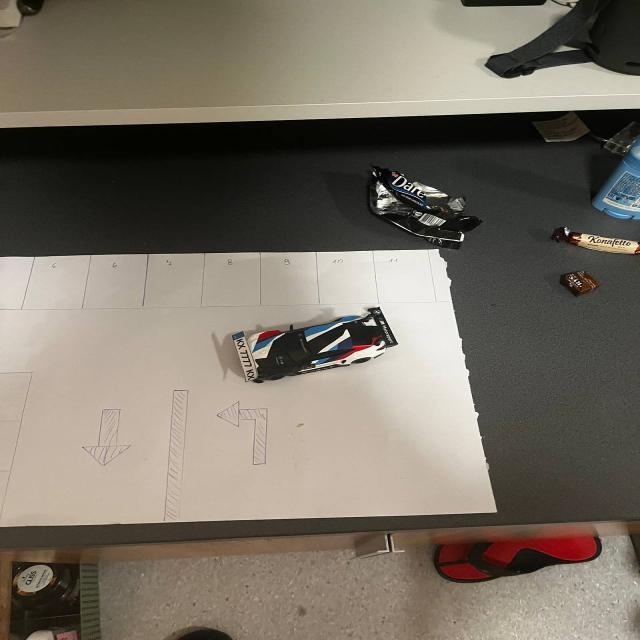KX 7777 KX: (228, 326, 269, 385)
